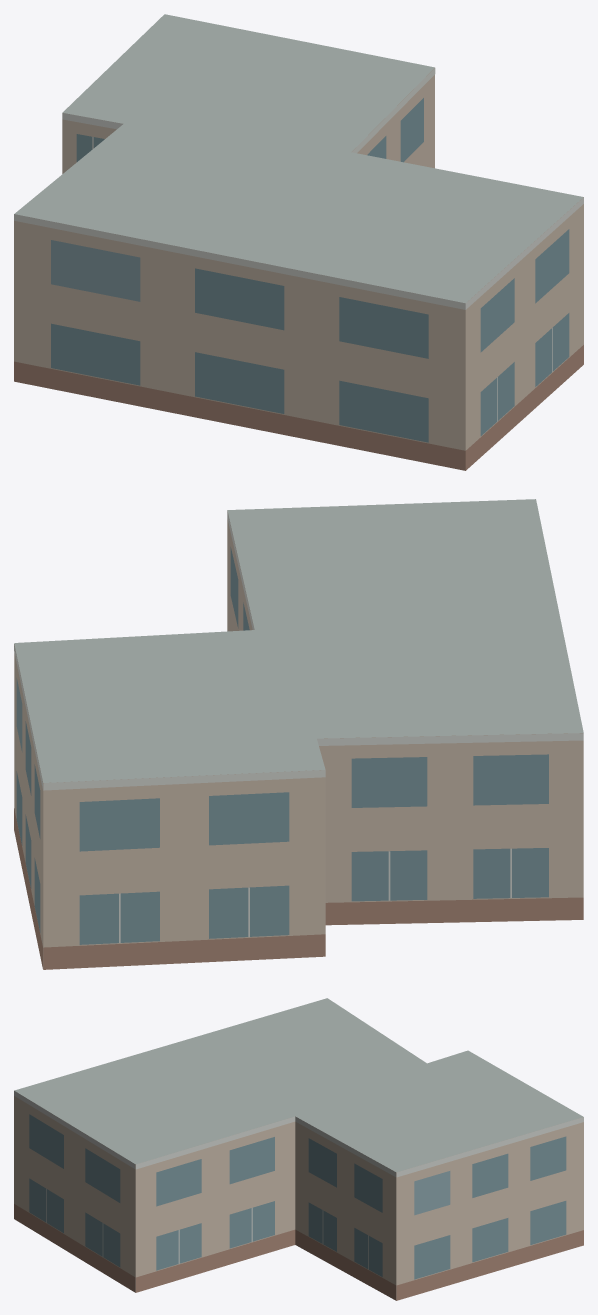
Rendered from survey-upis-32975078.glb.
3 renders of one model, top to bottom at view 1: azimuth 30°, elevation 25°; view 2: azimuth 150°, elevation 25°; view 3: azimuth 270°, elevation 25°, orthographic. The views are drawn at different scales.
Parts seen in each view (by area): view 1: survey-upis-32975078.tmp; view 2: survey-upis-32975078.tmp; view 3: survey-upis-32975078.tmp.
Boxes of the visible parts, <box> form: survey-upis-32975078.tmp: <box>14,14,583,470</box>; survey-upis-32975078.tmp: <box>14,499,583,969</box>; survey-upis-32975078.tmp: <box>14,998,583,1300</box>.
Bounding box in the file's own units: 17.77 × 6.1 × 24.53.
